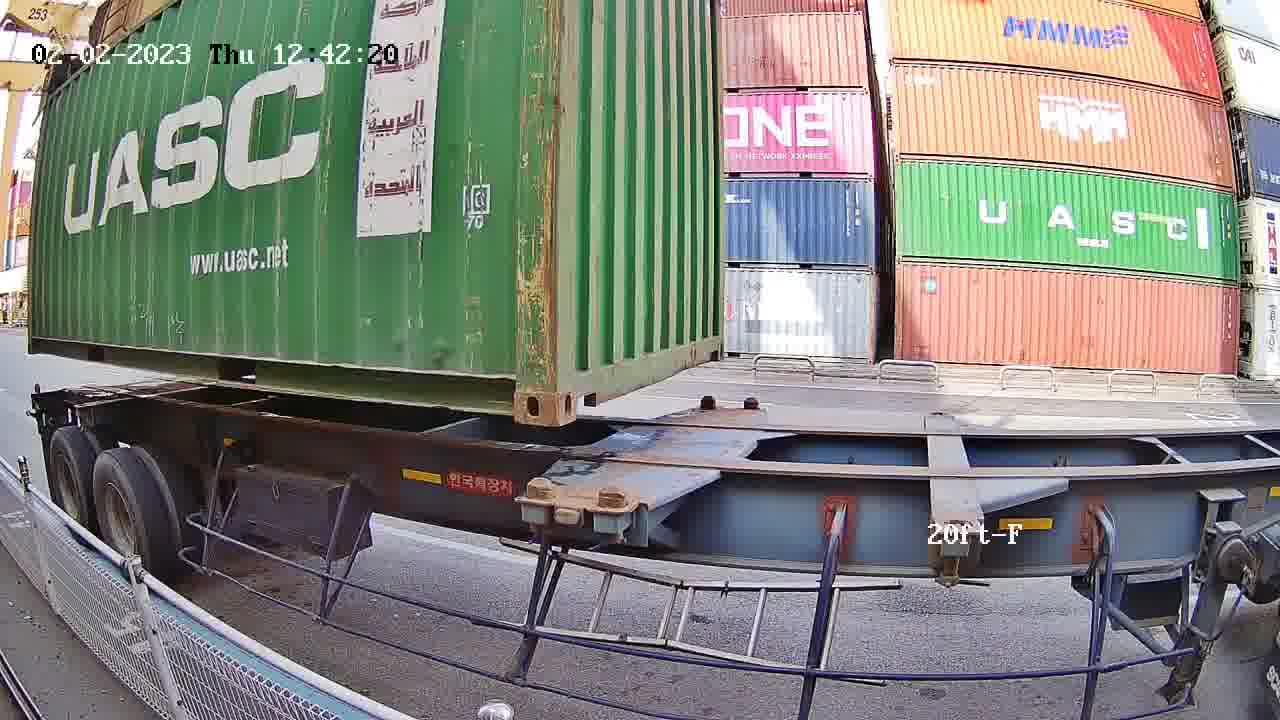Chassis: (520, 404, 720, 506), (588, 406, 765, 513)
Cone: (592, 483, 633, 551), (520, 474, 552, 540), (694, 394, 718, 409), (739, 395, 762, 408)
Hole_L: (556, 345, 606, 427)
Hole_R: (470, 344, 557, 429), (703, 319, 725, 361)
Tire: (93, 456, 150, 584), (50, 432, 92, 545)
